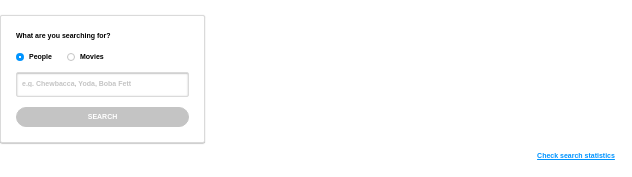
Test: SearchForm › should enable search button when input has text
Type "Luke" into the field with placeholder "e.g. Chewbacca, Yoda, Boba Fett" at x=102, y=84, box [16,72,189,96]
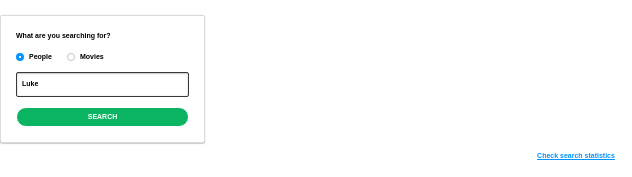
Check: the button "Search" is enabled, box [16,106,189,127]
